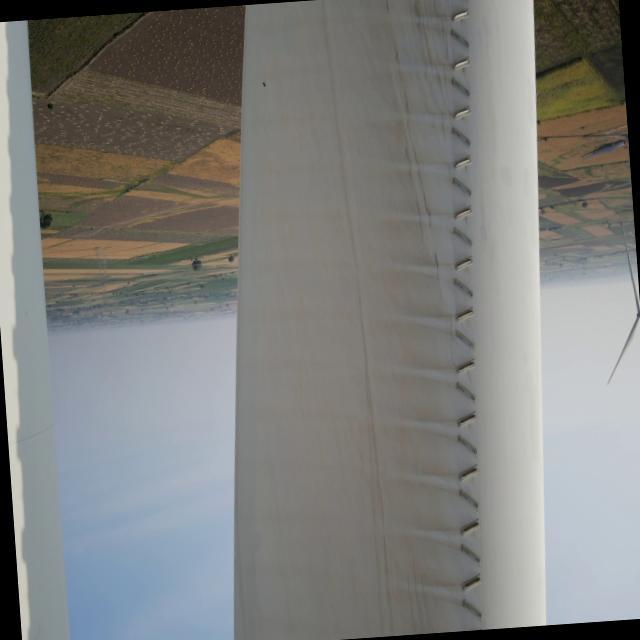Dirt: (340, 2, 487, 640)
Pin Hole: (261, 80, 271, 92)
